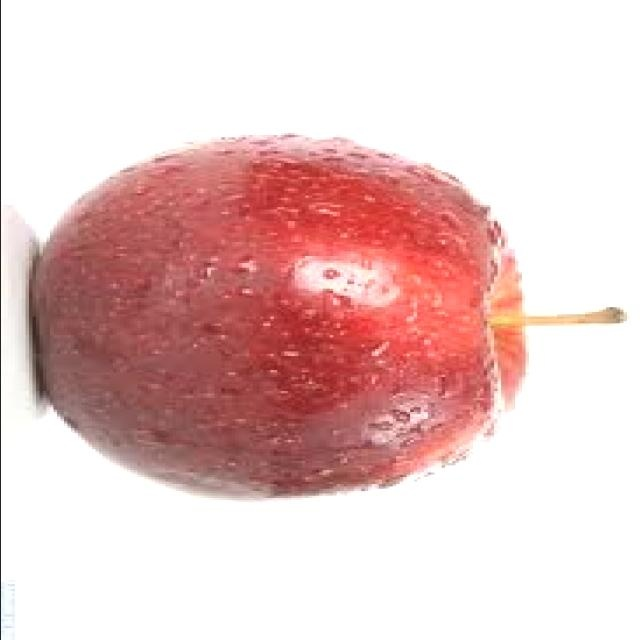agrume: (0, 132, 563, 552)
